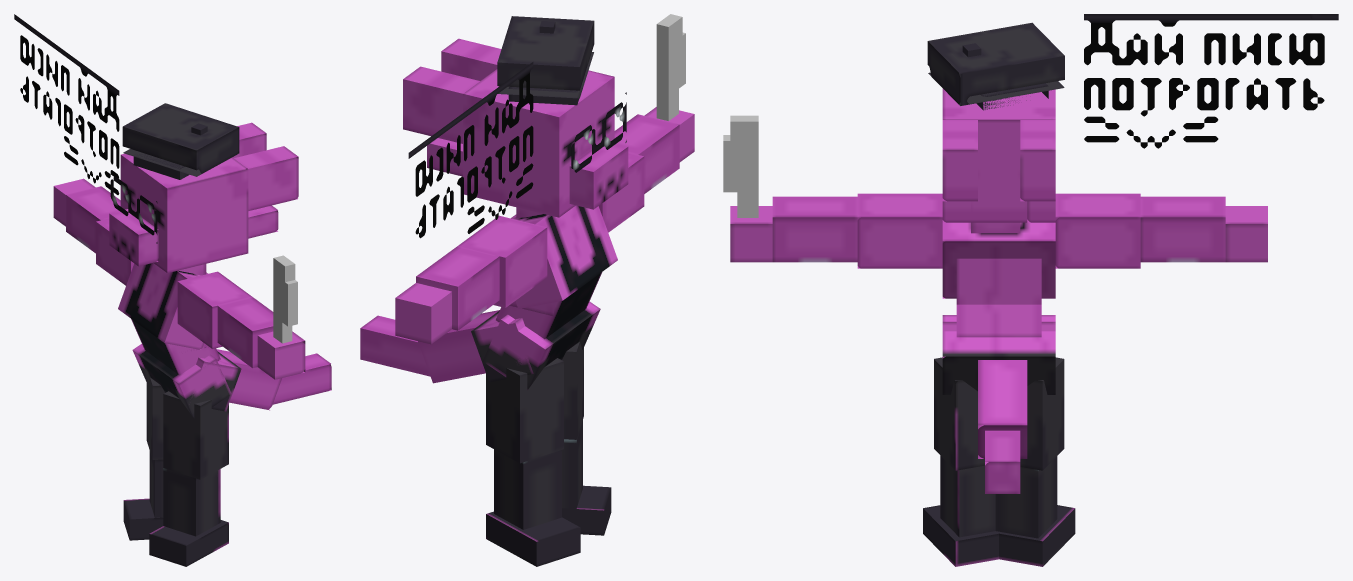
The model's file is Nyash.obj.
3 renders of one model, left to right at view 1: azimuth 30°, elevation 25°; view 2: azimuth 150°, elevation 25°; view 3: azimuth 270°, elevation 25°, orthographic. The views are drawn at different scales.
Visible parts, largest first — view 1: cube; view 2: cube; view 3: cube.
Boxes of the visible parts, <box> form: cube: <box>14,14,331,566</box>; cube: <box>360,14,694,566</box>; cube: <box>723,14,1338,566</box>.
Bounding box in the file's own units: 0.625 × 1.27 × 1.36.
Materials: 2 (1 with a texture image).
